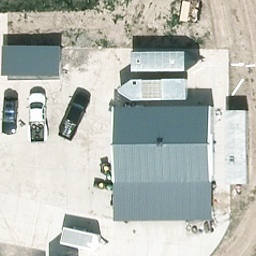car: (2, 98, 19, 135)
pickup: (57, 92, 92, 142), (29, 92, 48, 145)
